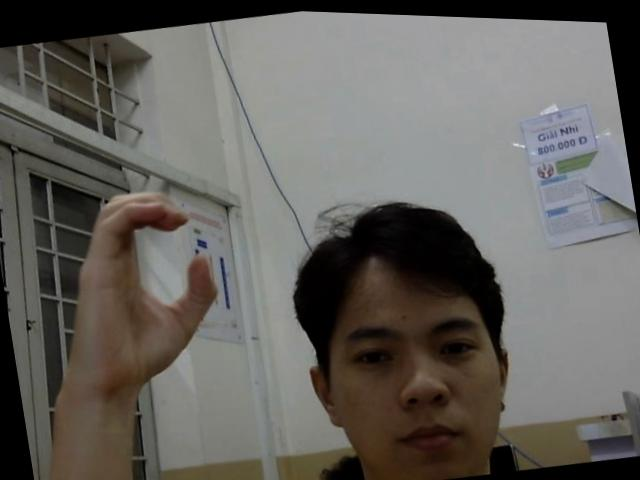C: (47, 176, 232, 400)
